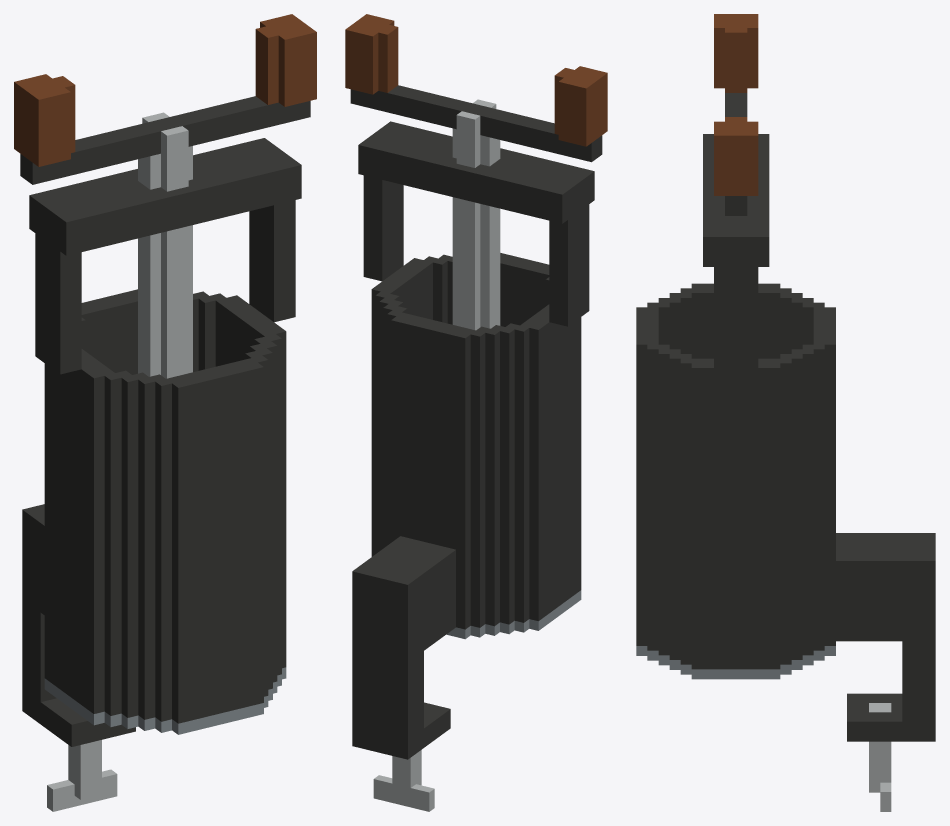
File: pastaextruder.glb
The picture shows the model from 3 angles, left to right: view 1: azimuth 30°, elevation 25°; view 2: azimuth 150°, elevation 25°; view 3: azimuth 270°, elevation 25°; orthographic projection. The views are drawn at different scales.
Parts seen in each view (by area): view 1: pastaextruder:compound; view 2: pastaextruder:compound; view 3: pastaextruder:compound.
Part boxes in pixels (<box>): pastaextruder:compound: <box>14,14,316,811</box>; pastaextruder:compound: <box>345,14,607,811</box>; pastaextruder:compound: <box>636,14,935,811</box>.
Size of the model in its own units: 0.104 by 0.288 by 0.108.
